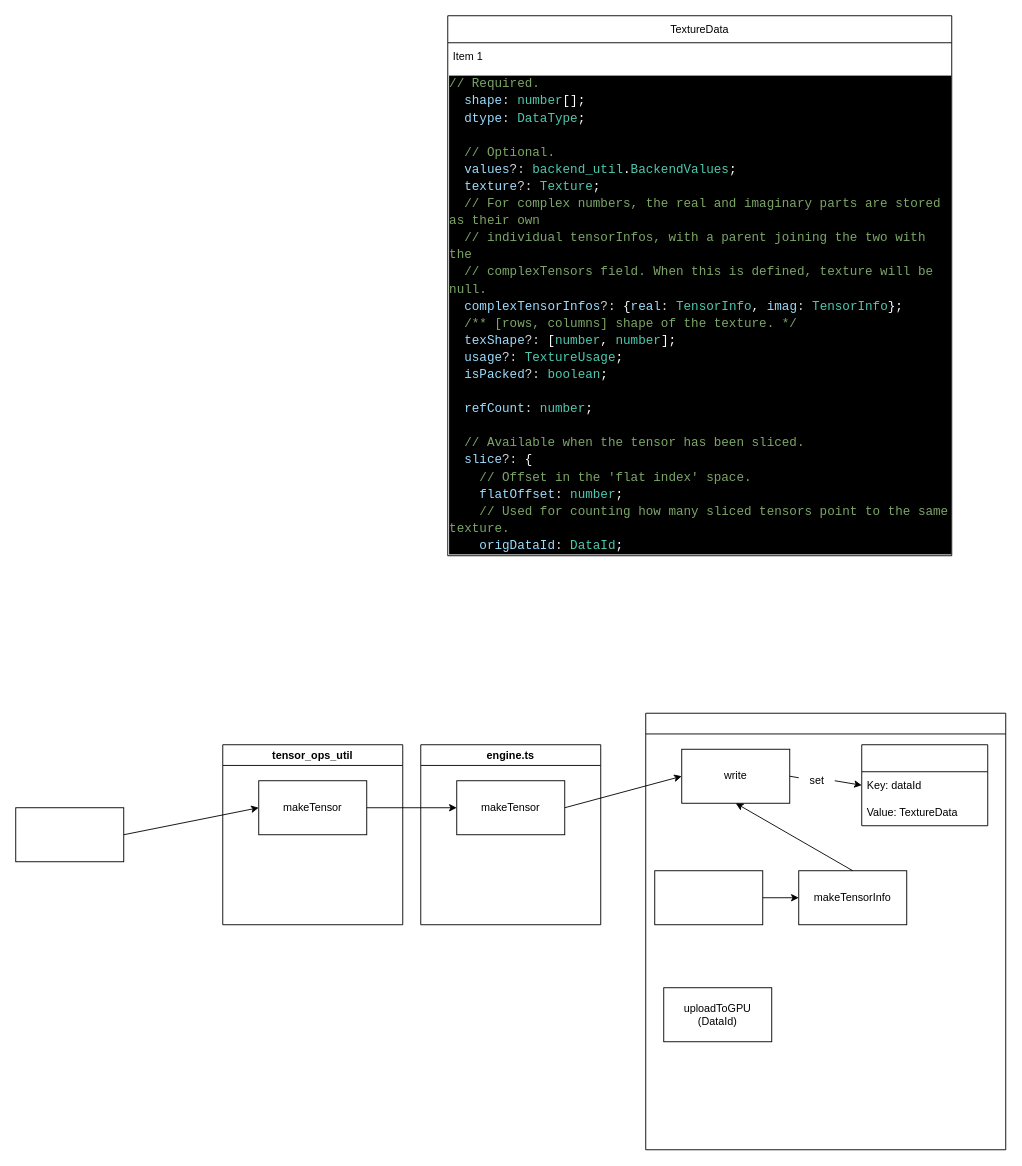
This 1022x1166 diagram has some shape labels left out. Each missing label, with the box of its shape:
backend_webgl: (645, 712, 1006, 1150)
runWebGLProgram: (654, 870, 763, 925)
tensor2d: (15, 807, 124, 862)
this.texData: (861, 744, 988, 826)
